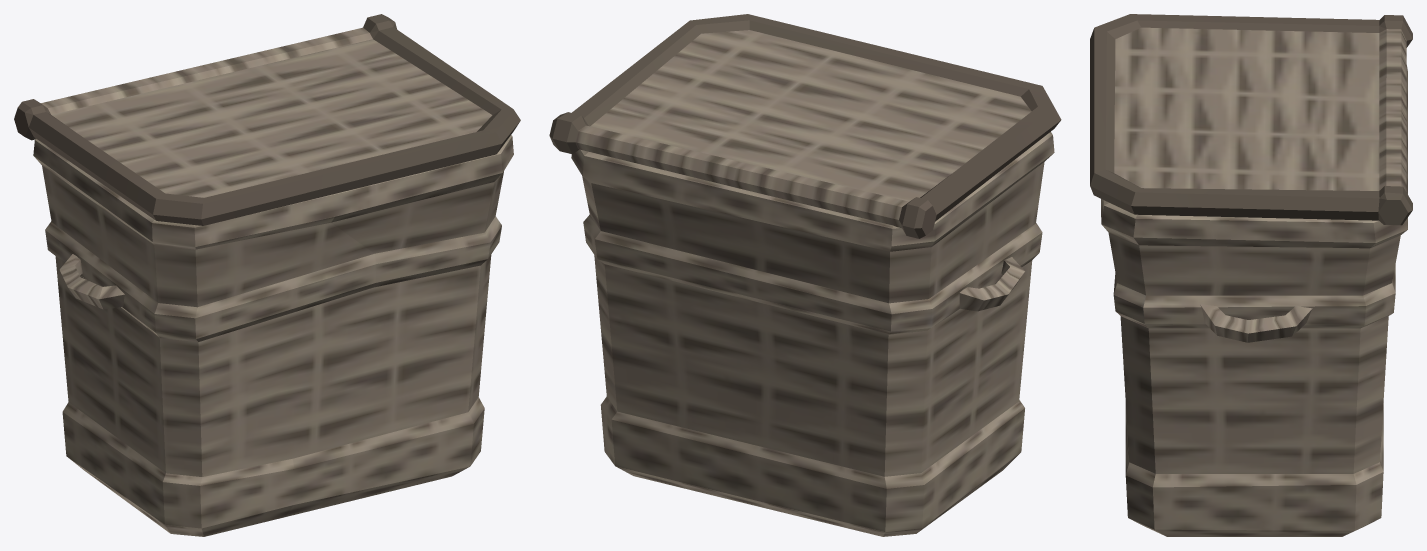
Rendered from ancient_SM_Prop_Basket_02.gltf.
3 renders of one model, left to right at view 1: azimuth 30°, elevation 25°; view 2: azimuth 150°, elevation 25°; view 3: azimuth 270°, elevation 25°, orthographic.
Parts seen in each view (by area): view 1: SM_Prop_Basket_02; view 2: SM_Prop_Basket_02; view 3: SM_Prop_Basket_02.
Part boxes in pixels (left/top/right/bottom): SM_Prop_Basket_02: left=14, top=14, right=520, bottom=536; SM_Prop_Basket_02: left=549, top=14, right=1061, bottom=536; SM_Prop_Basket_02: left=1090, top=14, right=1412, bottom=536.
Bounding box in the file's own units: 0.6845 × 0.577 × 0.4653.
Materials: 1 (1 with a texture image).
